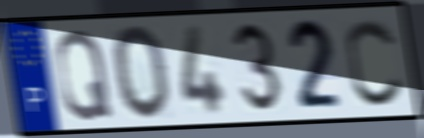2: (287, 13, 350, 117)
3: (231, 18, 285, 118)
4: (179, 21, 228, 117)
C: (344, 16, 406, 109)
O: (110, 22, 173, 123)
Q: (53, 27, 115, 124)
